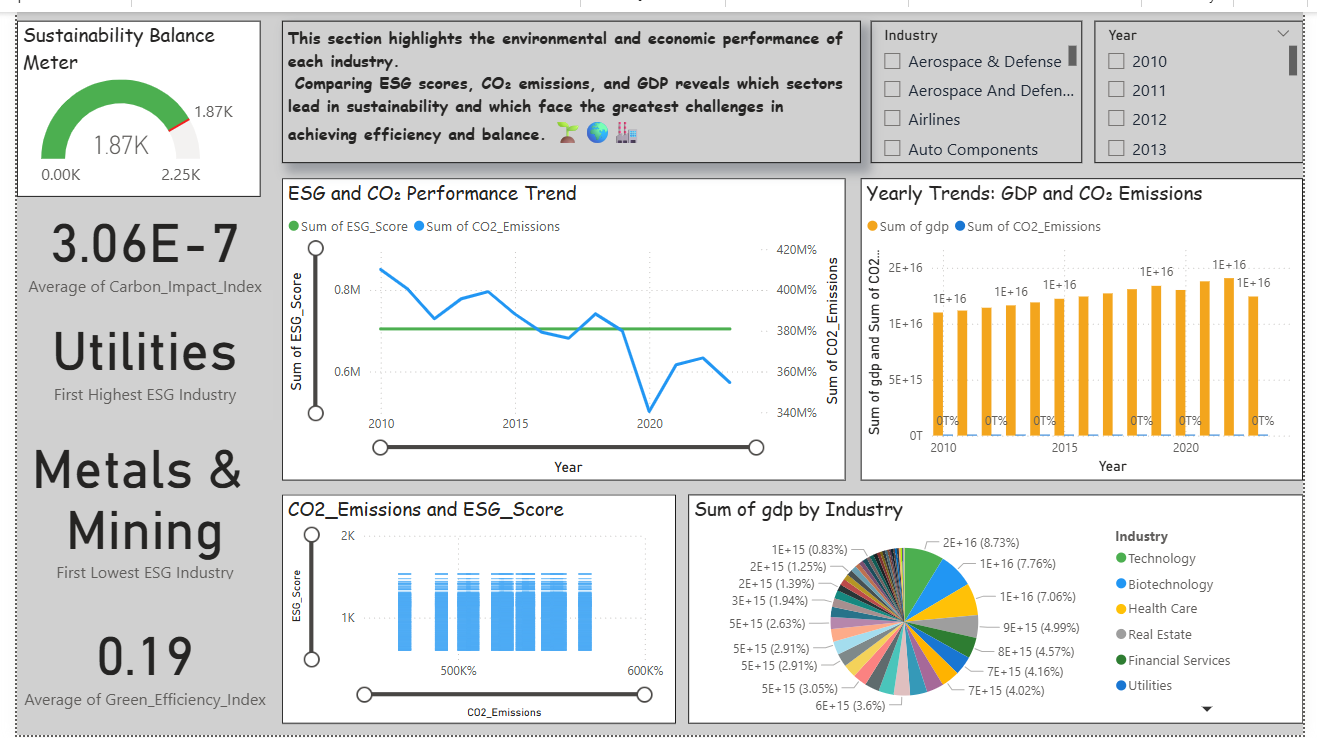

The dashboard page shown, as its layout file describes it:
{"tool":"powerbi","page":{"name":"Industry Insights and Comparision","canvas":[1280,720],"ordinal":1},"visuals":[{"type":"scatterChart","fields":{"X":["merged_esg_co2_clean.CO2_Emissions"],"Y":["merged_esg_co2_clean.ESG_Score"]},"box":[263.7,480.2,391.8,227.6],"z":0},{"type":"card","fields":{"Values":["Min(merged_esg_co2_clean.Highest ESG Industry)"]},"box":[0,276.2,255,130.6],"z":1000},{"type":"card","fields":{"Values":["Min(merged_esg_co2_clean.Lowest ESG Industry)"]},"box":[0,406.8,255,163],"z":2000},{"type":"card","fields":{"Values":["Avg(merged_esg_co2_clean.Green_Efficiency_Index)"]},"box":[0,569.7,255,150.5],"z":3000},{"type":"card","fields":{"Values":["Avg(merged_esg_co2_clean.Carbon_Impact_Index)"]},"box":[0,165.4,255,136.8],"z":4000},{"type":"gauge","title":"Sustainability Balance Meter","fields":{"Y":["Sum(merged_esg_co2_clean.Green_Efficiency_Index)"],"MaxValue":["Sum(merged_esg_co2_clean.Max_Index)"],"TargetValue":["Sum(merged_esg_co2_clean.Benchmark_Target)"]},"box":[0,8.7,242.6,175.4],"z":5000},{"type":"lineChart","title":"ESG and CO₂ Performance Trend","fields":{"Category":["merged_esg_co2_clean.Year"],"Y":["Sum(merged_esg_co2_clean.ESG_Score)"],"Y2":["Sum(merged_esg_co2_clean.CO2_Emissions)"]},"box":[263.7,165.4,561,301],"z":6000},{"type":"clusteredColumnChart","title":"Yearly Trends: GDP and CO₂ Emissions","fields":{"Category":["merged_esg_co2_clean.Year"],"Y":["Sum(merged_esg_co2_clean.gdp)","Sum(merged_esg_co2_clean.CO2_Emissions)"]},"box":[839.7,165.4,440.4,301],"z":7000},{"type":"pieChart","fields":{"Y":["Sum(merged_esg_co2_clean.gdp)"],"Category":["merged_esg_co2_clean.Industry"]},"box":[668,480.2,612,227.6],"z":8000},{"type":"textbox","box":[263.7,8.7,576,141.8],"z":9000},{"type":"slicer","fields":{"Values":["merged_esg_co2_clean.Industry"]},"box":[849.6,8.7,210.2,141.8],"z":10000},{"type":"slicer","fields":{"Values":["merged_esg_co2_clean.Year"]},"box":[1072.3,8.7,207.7,141.8],"z":11000}]}

Visuals, with their boxes in screenshot pixels (x1, y1, x2, y2), scaled from the page's 1280x720 canvas onto the 1317x738 screenshot:
scatterChart - merged_esg_co2_clean.CO2_Emissions x merged_esg_co2_clean.ESG_Score: 271 492 674 725
card - Min(merged_esg_co2_clean.Highest ESG Industry): 0 283 262 417
card - Min(merged_esg_co2_clean.Lowest ESG Industry): 0 417 262 584
card - Avg(merged_esg_co2_clean.Green_Efficiency_Index): 0 584 262 737
card - Avg(merged_esg_co2_clean.Carbon_Impact_Index): 0 170 262 310
"Sustainability Balance Meter" gauge: 0 9 250 189
"ESG and CO₂ Performance Trend" lineChart: 271 170 849 478
"Yearly Trends: GDP and CO₂ Emissions" clusteredColumnChart: 864 170 1316 478
pieChart - Sum(merged_esg_co2_clean.gdp) x merged_esg_co2_clean.Industry: 687 492 1316 725
textbox: 271 9 864 154
slicer - merged_esg_co2_clean.Industry: 874 9 1090 154
slicer - merged_esg_co2_clean.Year: 1103 9 1316 154
